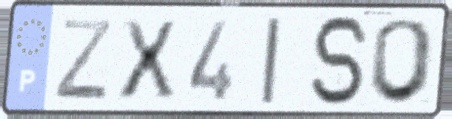4: (186, 18, 236, 103)
I: (258, 14, 284, 107)
O: (366, 16, 439, 107)
S: (309, 13, 374, 110)
X: (116, 17, 180, 103)
Z: (52, 16, 115, 103)
